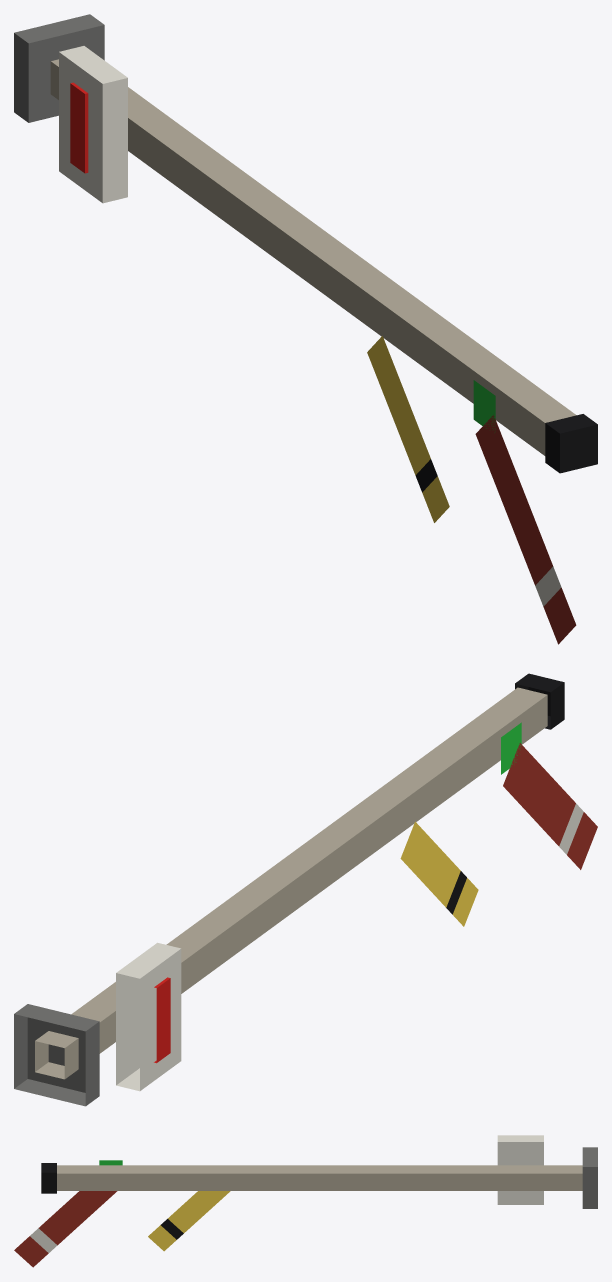
Rendered from green.glb.
The picture shows the model from 3 angles, top to bottom: view 1: azimuth 30°, elevation 25°; view 2: azimuth 150°, elevation 25°; view 3: azimuth 270°, elevation 25°; orthographic projection. The views are drawn at different scales.
Parts seen in each view (by area): view 1: signal_semaphore_path_oneway_green; view 2: signal_semaphore_path_oneway_green; view 3: signal_semaphore_path_oneway_green.
Part boxes in pixels (box(x1,y1,x2,y2)): signal_semaphore_path_oneway_green: box(14, 14, 597, 644); signal_semaphore_path_oneway_green: box(14, 673, 597, 1106); signal_semaphore_path_oneway_green: box(14, 1135, 597, 1267).
Bounding box in the file's own units: 1.35 × 3.66 × 15.11.
